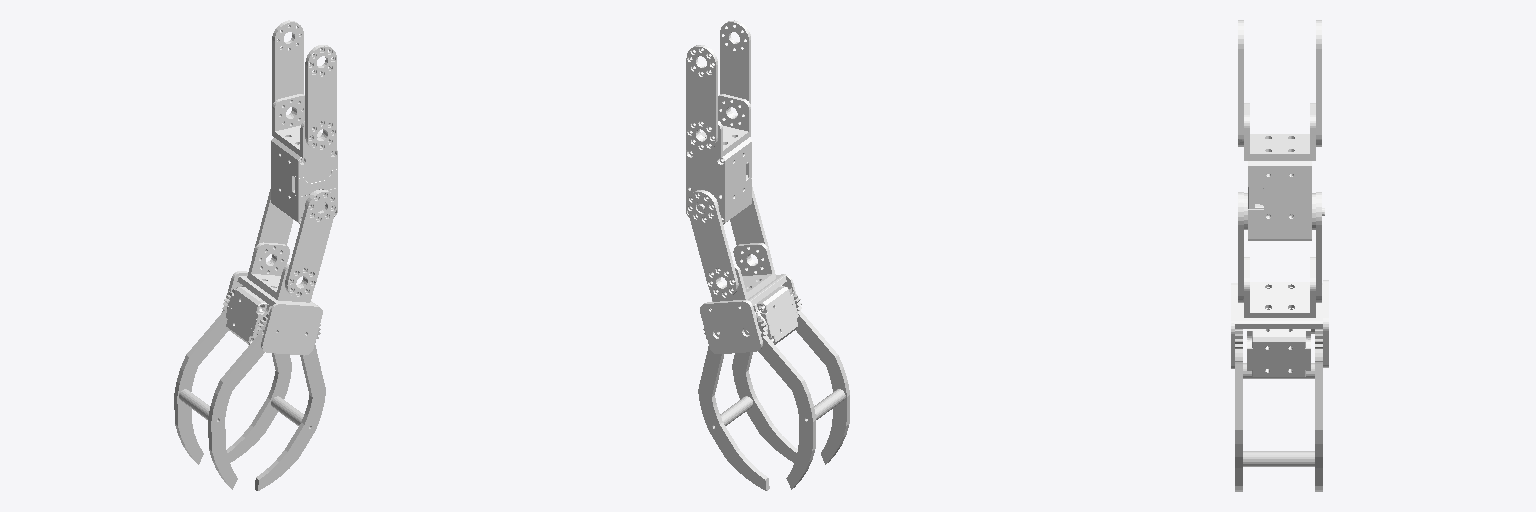
robot.urdf — s500_uam:
<?xml version="1.0" encoding="utf-8"?>
<!-- This URDF was automatically created by SolidWorks to URDF Exporter! Originally created by [author] ([email redacted]) 
     Commit Version: 1.6.0-4-g7f85cfe  Build Version: 1.6.7995.38578
     For more information, please see http://wiki.ros.org/sw_urdf_exporter -->
<robot
  name="s500_uam">
  <link name="base_link">
    <inertial>
      <origin
        xyz="-3.9741E-05 -2.1279E-05 -0.02127"
        rpy="0 0 0" />
      <mass
        value="1.5" />
      <inertia
        ixx="0.00042201"
        ixy="-2.0445E-06"
        ixz="-1.0225E-06"
        iyy="0.00073654"
        iyz="6.0809E-08"
        izz="0.0010532" />
    </inertial>
    <visual>
      <origin
        xyz="0 0 0"
        rpy="0 0 0" />
      <geometry>
        <mesh
          filename="package://s500_uam/meshes/base_link.STL" />
      </geometry>
      <material
        name="">
        <color
          rgba="0.75294 0.75294 0.75294 1" />
      </material>
    </visual>
    <collision>
      <origin
        xyz="0 0 0"
        rpy="0 0 0" />
      <geometry>
        <mesh
          filename="package://s500_uam/meshes/base_link.STL" />
      </geometry>
    </collision>
  </link>
  <link name="link_1">
    <inertial>
      <origin
        xyz="-5.7463E-12 -0.00019643 -0.076809"
        rpy="0 0 0" />
      <mass
        value="0.056776" />
      <inertia
        ixx="1.5689E-05"
        ixy="-1.0155E-16"
        ixz="-5.2428E-15"
        iyy="1.3617E-05"
        iyz="-1.6017E-09"
        izz="8.7857E-06" />
    </inertial>
    <visual>
      <origin
        xyz="0 0 0"
        rpy="0 0 0" />
      <geometry>
        <mesh
          filename="package://s500_uam/meshes/link_1.STL" />
      </geometry>
      <material
        name="">
        <color
          rgba="1 1 1 1" />
      </material>
    </visual>
    <collision>
      <origin
        xyz="0 0 0"
        rpy="0 0 0" />
      <geometry>
        <mesh
          filename="package://s500_uam/meshes/link_1.STL" />
      </geometry>
    </collision>
  </link>
  <joint name="joint_1"
    type="continuous">
    <origin
      xyz="0.0007 0 -0.07275"
      rpy="0 0 0" />
    <parent
      link="base_link" />
    <child
      link="link_1" />
    <axis
      xyz="0 1 0" />
  </joint>
  <link name="link_2">
    <inertial>
      <origin
        xyz="0.00057539 0.00024651 -0.072261"
        rpy="0 0 0" />
      <mass
        value="0.065663" />
      <inertia
        ixx="1.3006E-05"
        ixy="2.5553E-07"
        ixz="4.4082E-09"
        iyy="1.4985E-05"
        iyz="-6.0777E-07"
        izz="1.6054E-05" />
    </inertial>
    <visual>
      <origin
        xyz="0 0 0"
        rpy="0 0 0" />
      <geometry>
        <mesh
          filename="package://s500_uam/meshes/link_2.STL" />
      </geometry>
      <material
        name="">
        <color
          rgba="1 1 1 1" />
      </material>
    </visual>
    <collision>
      <origin
        xyz="0 0 0"
        rpy="0 0 0" />
      <geometry>
        <mesh
          filename="package://s500_uam/meshes/link_2.STL" />
      </geometry>
    </collision>
  </link>
  <joint name="joint_2"
    type="continuous">
    <origin
      xyz="0 0 -0.09925"
      rpy="0 0.2936 0" />
    <parent
      link="link_1" />
    <child
      link="link_2" />
    <axis
      xyz="0 1 0" />
  </joint>
  <link name="link_3">
    <inertial>
      <origin
        xyz="0.025274 0.000991 -0.041284"
        rpy="0 0 0" />
      <mass
        value="0.012158" />
      <inertia
        ixx="1.0667E-05"
        ixy="-2.5213E-09"
        ixz="3.6553E-06"
        iyy="1.2675E-05"
        iyz="4.2721E-09"
        izz="2.4775E-06" />
    </inertial>
    <visual>
      <origin
        xyz="0 0 0"
        rpy="0 0 0" />
      <geometry>
        <mesh
          filename="package://s500_uam/meshes/link_3.STL" />
      </geometry>
      <material
        name="">
        <color
          rgba="0.92157 0.92157 0.92157 1" />
      </material>
    </visual>
    <collision>
      <origin
        xyz="0 0 0"
        rpy="0 0 0" />
      <geometry>
        <mesh
          filename="package://s500_uam/meshes/link_3.STL" />
      </geometry>
    </collision>
  </link>
  <joint name="joint_3"
    type="continuous">
    <origin
      xyz="-0.011 0 -0.08225"
      rpy="0 0.23432 3.1416" />
    <parent
      link="link_2" />
    <child
      link="link_3" />
    <axis
      xyz="0 1 0" />
  </joint>
  <link name="link_4">
    <inertial>
      <origin
        xyz="0.024422 -0.0009913 -0.039818"
        rpy="0 0 0" />
      <mass
        value="0.012587" />
      <inertia
        ixx="1.1294E-05"
        ixy="2.4212E-09"
        ixz="4.0228E-06"
        iyy="1.352E-05"
        iyz="-4.1022E-09"
        izz="2.6966E-06" />
    </inertial>
    <visual>
      <origin
        xyz="0 0 0"
        rpy="0 0 0" />
      <geometry>
        <mesh
          filename="package://s500_uam/meshes/link_4.STL" />
      </geometry>
      <material
        name="">
        <color
          rgba="0.92157 0.92157 0.92157 1" />
      </material>
    </visual>
    <collision>
      <origin
        xyz="0 0 0"
        rpy="0 0 0" />
      <geometry>
        <mesh
          filename="package://s500_uam/meshes/link_4.STL" />
      </geometry>
    </collision>
  </link>
  <joint name="joint_4"
    type="continuous">
    <origin
      xyz="0.011 0 -0.08225"
      rpy="0 0.26237 0" />
    <parent
      link="link_2" />
    <child
      link="link_4" />
    <axis
      xyz="0 1 0" />
  </joint>
</robot>

--- What the picture shows (computed from the rendered views, not written in the file) ---
Views: 3 orthographic renders of the robot side by side, from view 1: azimuth 30°, elevation 25°; view 2: azimuth 150°, elevation 25°; view 3: azimuth 270°, elevation 25°.
Robot: s500_uam — 5 links, 4 joints (4 continuous); root link base_link; default pose: all joints at 0.
Links seen in each view (by area): view 1: link_2, link_1, link_3, link_4; view 2: link_2, link_1, link_3, link_4; view 3: link_2, link_1, link_4.
Link boxes in pixels (box(x1,y1,x2,y2)): link_2: box(222, 189, 336, 355); link_1: box(271, 20, 337, 223); link_3: box(174, 286, 276, 489); link_4: box(227, 324, 325, 490); link_2: box(686, 187, 798, 353); link_1: box(686, 20, 751, 224); link_3: box(755, 286, 849, 489); link_4: box(698, 329, 797, 490); link_2: box(1231, 192, 1328, 376); link_1: box(1238, 20, 1324, 240); link_4: box(1235, 329, 1322, 491).
Bounding box of the posed robot: 0.0946 × 0.051 × 0.2922 m (x, y, z).
Meshes: 5 distinct files referenced, 4 mesh visuals loaded (4 binary STL); not drawn: 1 (reference not matched to a file when rendering).